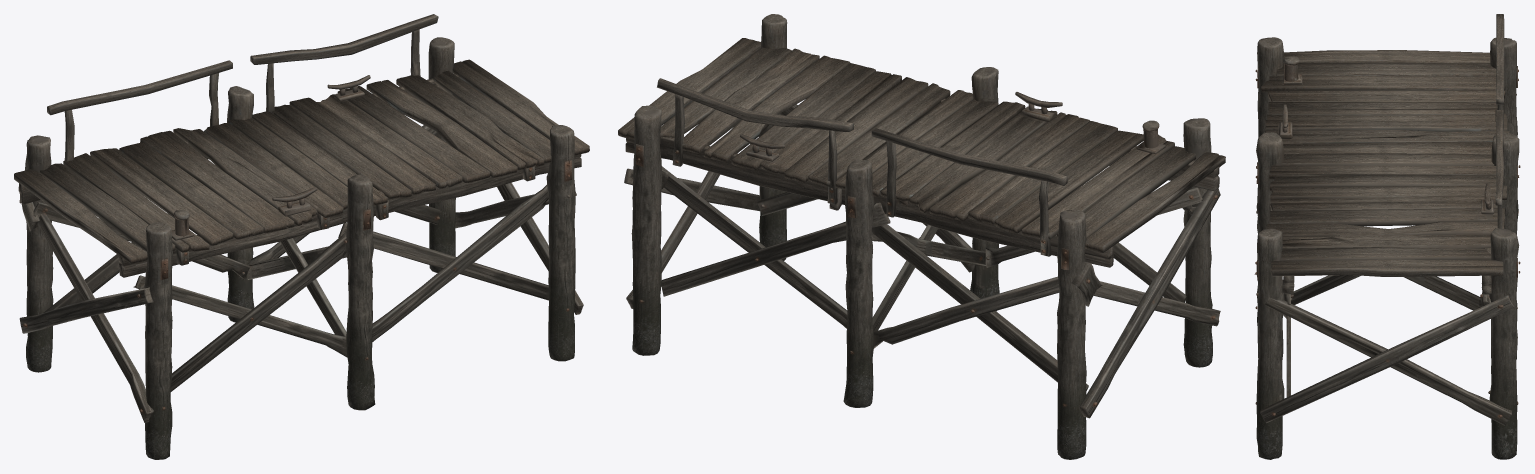
Rendered from Meshy_AI_Weathered_Wooden_Dock_1018053025_texture.obj.
The picture shows the model from 3 angles, left to right: view 1: azimuth 30°, elevation 25°; view 2: azimuth 150°, elevation 25°; view 3: azimuth 270°, elevation 25°; orthographic projection. The views are drawn at different scales.
Parts seen in each view (by area): view 1: Meshy_AI_Weathered_Wooden_Dock_1018053025_texture; view 2: Meshy_AI_Weathered_Wooden_Dock_1018053025_texture; view 3: Meshy_AI_Weathered_Wooden_Dock_1018053025_texture.
Part boxes in pixels (x1,y1,x2,y2): Meshy_AI_Weathered_Wooden_Dock_1018053025_texture: (14,14,589,459); Meshy_AI_Weathered_Wooden_Dock_1018053025_texture: (618,14,1225,459); Meshy_AI_Weathered_Wooden_Dock_1018053025_texture: (1254,14,1520,459).
Bounding box in the file's own units: 0.9546 × 0.5137 × 0.4863.
Materials: 1 (1 with a texture image).
